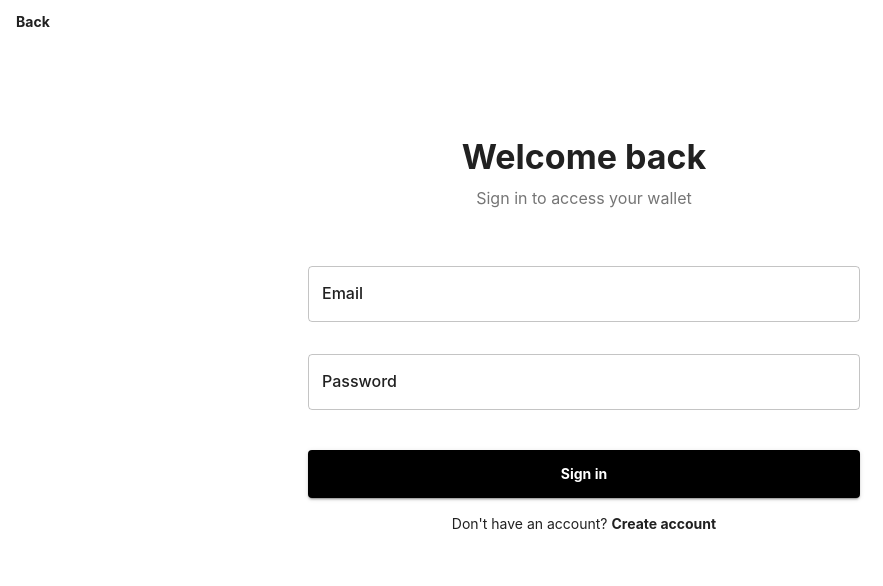
Test case: Login flow › should show error when password is empty
The width and height of the screenshot is (883, 586).
Step 1. Type "test@example.com" into the field with id "email" → (584, 294), box [308,266,860,322]
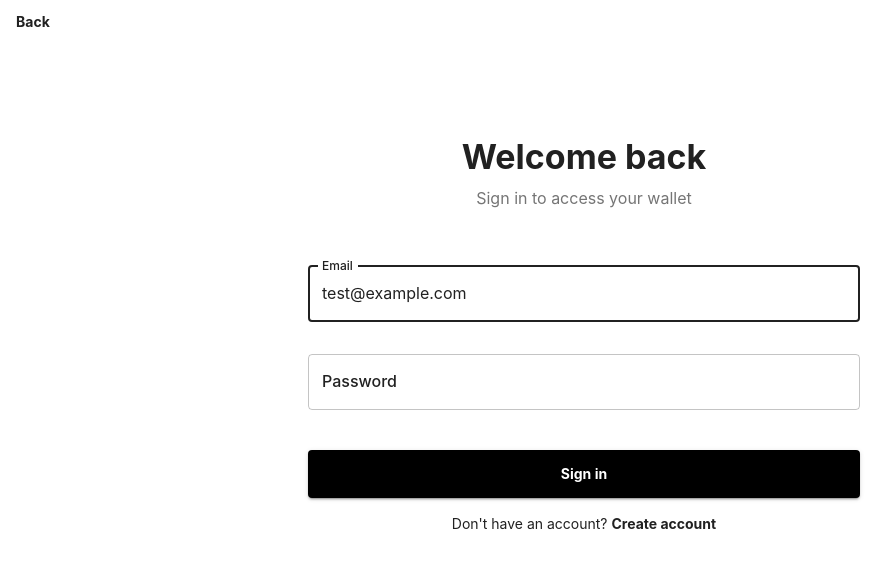
Step 2. Click the button "Sign in" → (584, 475), box [308,450,860,499]
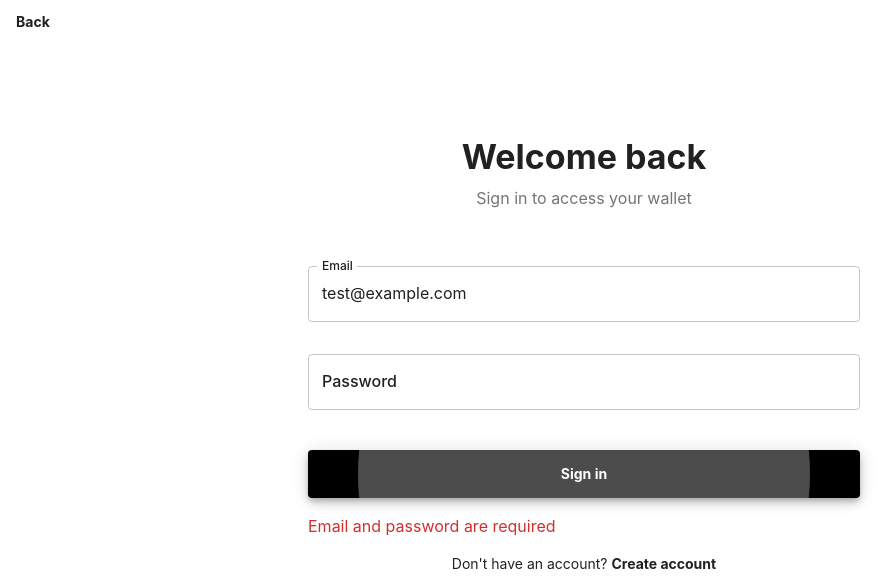
Result: the text "Email and password are required" is shown at [308,516,556,536]
